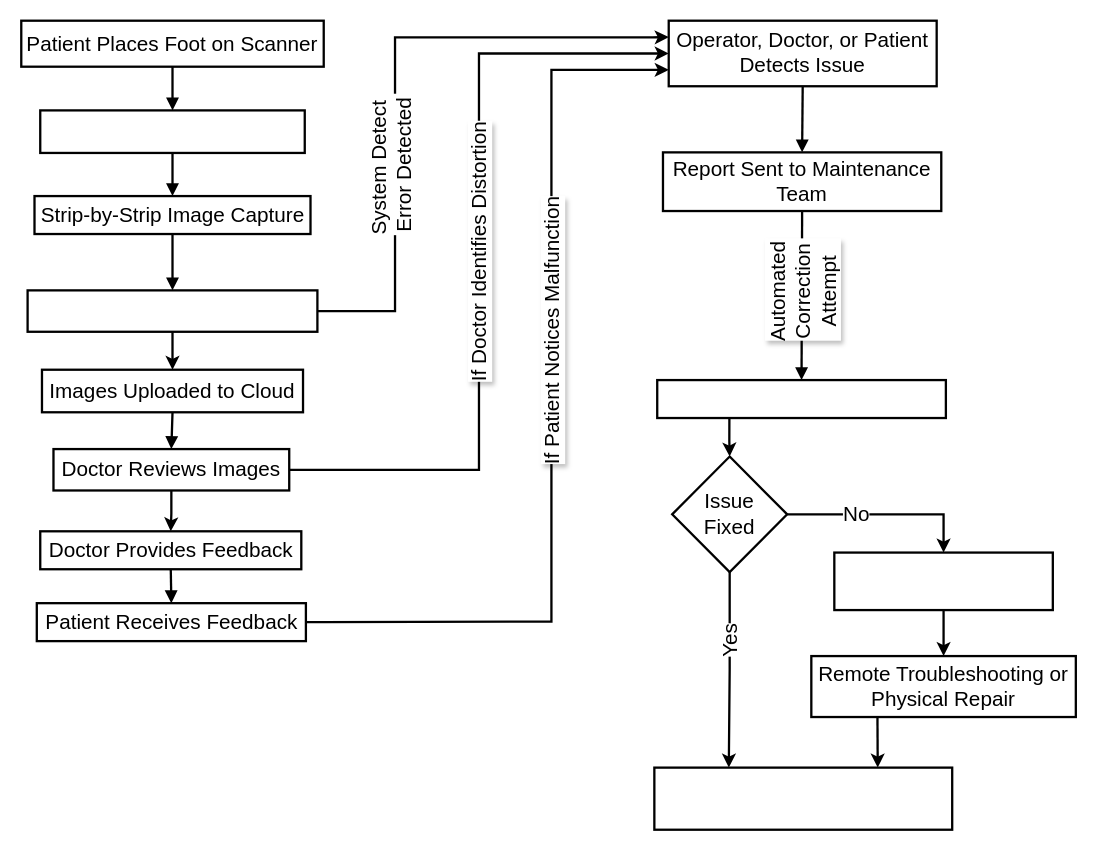
Image size: 1096x851. Some labels were removed from this diagram. Each missing label, with the centre of its shape:
Image Stitching & Processing: (172,310)
Manual Maintenance Intervention: (943,581)
Pressure Sensor Activates: (172,131)
Reprocessing & Recalibration: (801,398)
Update System Logs & Notify User: (803,798)
